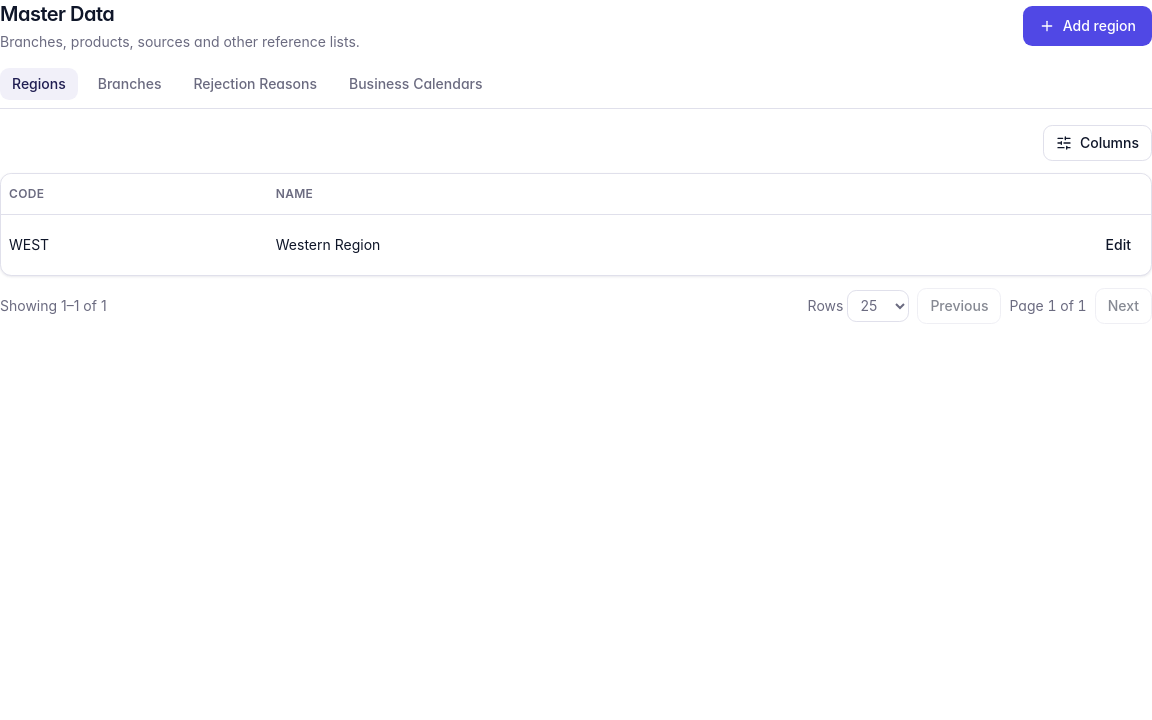
Test: MasterDataPage › shows inline validation errors and does not submit when required fields are empty
Click the button "Add region": (1087, 26) [1023,6,1151,46]
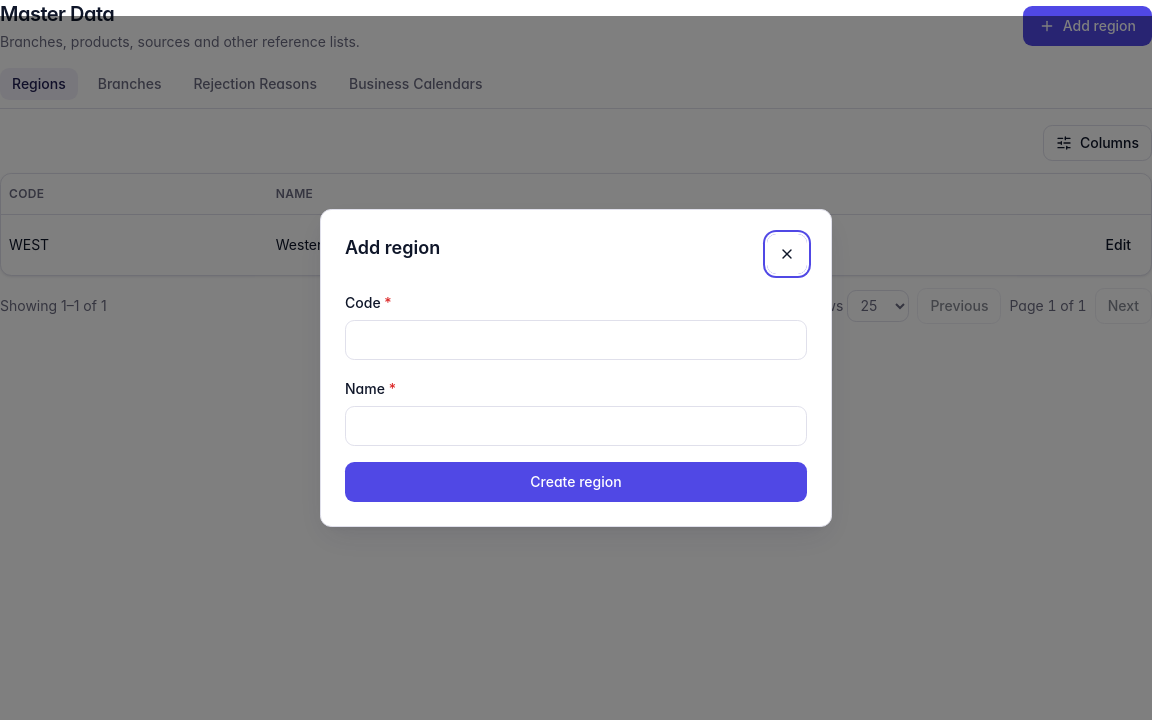
Click the button "Create region": (576, 482) [345,462,807,502]
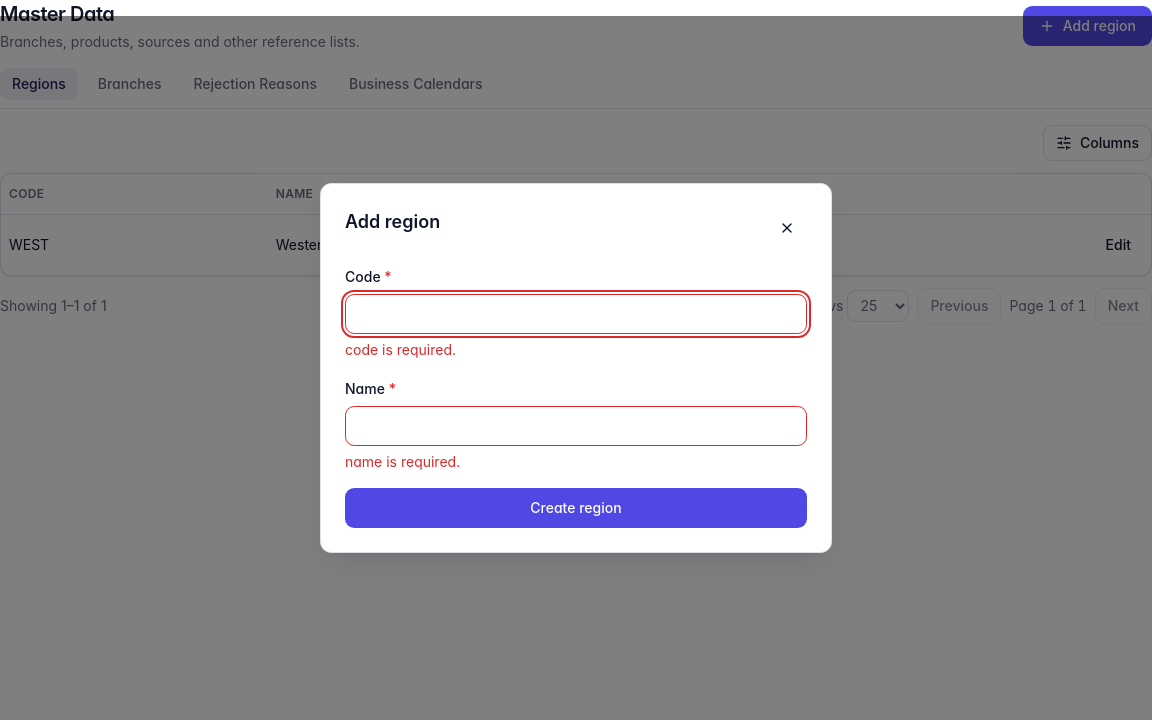
Expected: the text "code is required." is shown, [345,341,456,358]
Expected: the text "name is required." is shown, [345,453,460,470]
